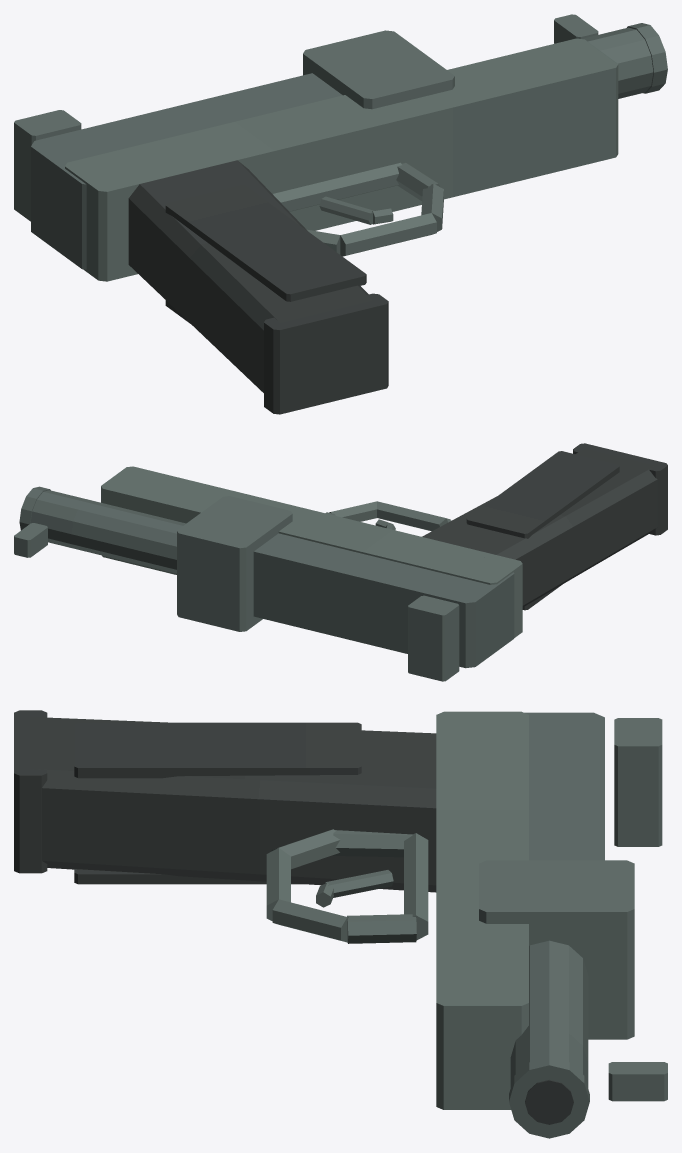
The model's file is weapon-walther-p38.glb.
3 views of the same model, one above another, from view 1: azimuth 30°, elevation 25°; view 2: azimuth 150°, elevation 25°; view 3: azimuth 270°, elevation 25° (orthographic). The views are drawn at different scales.
Visible parts, largest first — view 1: weapon-walther-p38/lower-frame, weapon-walther-p38/eight-sided-grip, weapon-walther-p38/rear-receiver, weapon-walther-p38/eight-sided-grip-heel, weapon-walther-p38/independent-grip-panels-left, weapon-walther-p38/open-front-bridge, weapon-walther-p38/rear-sight, weapon-walther-p38/exposed-round-barrel, weapon-walther-p38/hollow-trigger-guard-1, weapon-walther-p38/hollow-trigger-guard-4, weapon-walther-p38/exposed-round-barrel-end-rim, weapon-walther-p38/front-sight (+3 smaller); view 2: weapon-walther-p38/rear-receiver, weapon-walther-p38/lower-frame, weapon-walther-p38/eight-sided-grip, weapon-walther-p38/open-front-bridge, weapon-walther-p38/exposed-round-barrel, weapon-walther-p38/independent-grip-panels-left, weapon-walther-p38/rear-sight, weapon-walther-p38/eight-sided-grip-heel, weapon-walther-p38/hollow-trigger-guard-4, weapon-walther-p38/front-sight, weapon-walther-p38/hollow-trigger-guard-3, weapon-walther-p38/exposed-round-barrel-end-rim; view 3: weapon-walther-p38/eight-sided-grip, weapon-walther-p38/lower-frame, weapon-walther-p38/open-front-bridge, weapon-walther-p38/independent-grip-panels-left, weapon-walther-p38/rear-receiver, weapon-walther-p38/exposed-round-barrel, weapon-walther-p38/rear-sight, weapon-walther-p38/eight-sided-grip-heel, weapon-walther-p38/exposed-round-barrel-end-rim, weapon-walther-p38/front-sight, weapon-walther-p38/hollow-trigger-guard-1, weapon-walther-p38/hollow-trigger-guard-2 (+7 smaller).
Part boxes in pixels (x1,y1,x2,y2): weapon-walther-p38/lower-frame: (65, 38, 618, 281); weapon-walther-p38/eight-sided-grip: (128, 160, 371, 392); weapon-walther-p38/rear-receiver: (31, 73, 342, 269); weapon-walther-p38/eight-sided-grip-heel: (264, 293, 388, 414); weapon-walther-p38/independent-grip-panels-left: (165, 185, 366, 301); weapon-walther-p38/open-front-bridge: (303, 30, 454, 109); weapon-walther-p38/rear-sight: (14, 110, 81, 221); weapon-walther-p38/exposed-round-barrel: (582, 27, 653, 98); weapon-walther-p38/hollow-trigger-guard-1: (273, 162, 401, 211); weapon-walther-p38/hollow-trigger-guard-4: (340, 213, 436, 256); weapon-walther-p38/exposed-round-barrel-end-rim: (627, 23, 667, 93); weapon-walther-p38/front-sight: (554, 14, 598, 43); weapon-walther-p38/rear-receiver: (253, 533, 514, 668); weapon-walther-p38/lower-frame: (101, 466, 522, 637); weapon-walther-p38/eight-sided-grip: (422, 449, 657, 607); weapon-walther-p38/open-front-bridge: (177, 496, 292, 631); weapon-walther-p38/exposed-round-barrel: (30, 490, 185, 573); weapon-walther-p38/independent-grip-panels-left: (466, 451, 619, 538); weapon-walther-p38/rear-sight: (408, 595, 459, 681); weapon-walther-p38/eight-sided-grip-heel: (573, 443, 667, 535); weapon-walther-p38/hollow-trigger-guard-4: (377, 501, 450, 531); weapon-walther-p38/front-sight: (14, 523, 47, 557); weapon-walther-p38/hollow-trigger-guard-3: (329, 501, 376, 521); weapon-walther-p38/exposed-round-barrel-end-rim: (19, 486, 50, 530); weapon-walther-p38/eight-sided-grip: (30, 717, 436, 892); weapon-walther-p38/lower-frame: (436, 711, 528, 1109); weapon-walther-p38/open-front-bridge: (479, 860, 634, 1039); weapon-walther-p38/independent-grip-panels-left: (74, 722, 361, 778); weapon-walther-p38/rear-receiver: (524, 712, 604, 860); weapon-walther-p38/exposed-round-barrel: (510, 940, 588, 1087); weapon-walther-p38/rear-sight: (614, 718, 662, 846); weapon-walther-p38/eight-sided-grip-heel: (14, 710, 47, 873); weapon-walther-p38/exposed-round-barrel-end-rim: (509, 1057, 589, 1138); weapon-walther-p38/front-sight: (608, 1062, 667, 1101); weapon-walther-p38/hollow-trigger-guard-1: (404, 833, 428, 939); weapon-walther-p38/hollow-trigger-guard-2: (347, 914, 416, 943).
Bounding box in the file's own units: 0.2193 × 0.038 × 0.1765.
2 materials, 2 textured.
